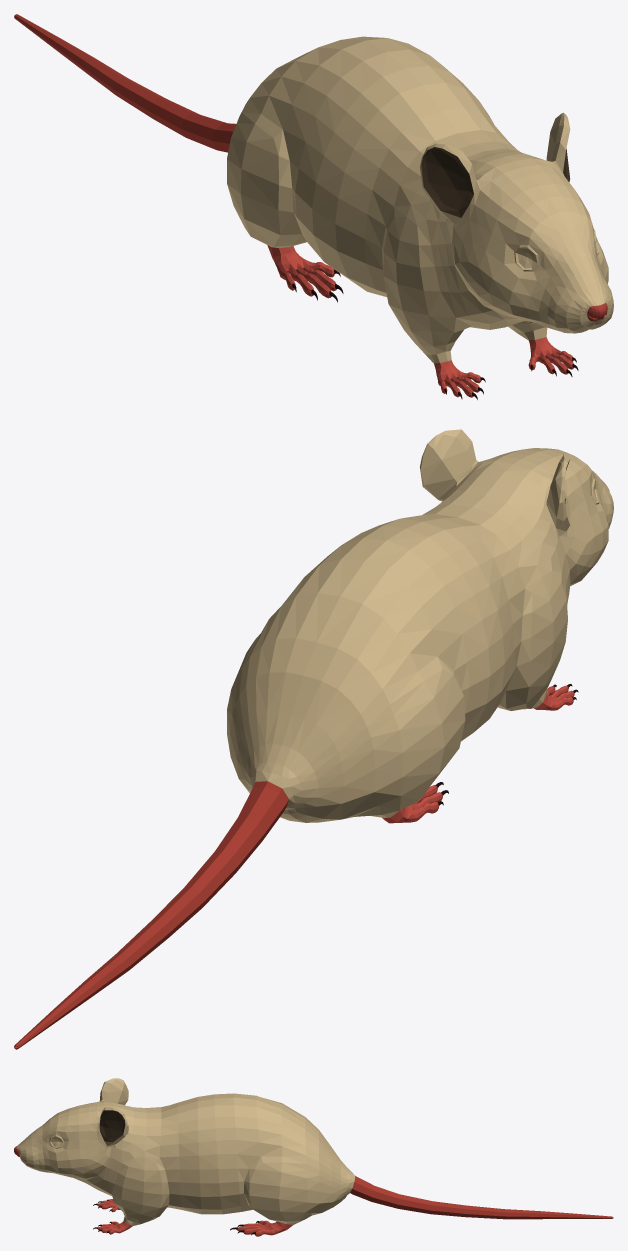
The model's file is mouse_mouse_triangulated.obj.
3 renders of one model, top to bottom at view 1: azimuth 30°, elevation 25°; view 2: azimuth 150°, elevation 25°; view 3: azimuth 270°, elevation 25°, orthographic. The views are drawn at different scales.
Bounding box in the file's own units: 0.0349 × 0.0404 × 0.1744.
